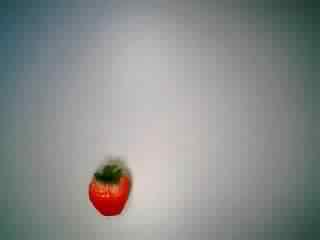strawberry: (79, 158, 141, 217)
